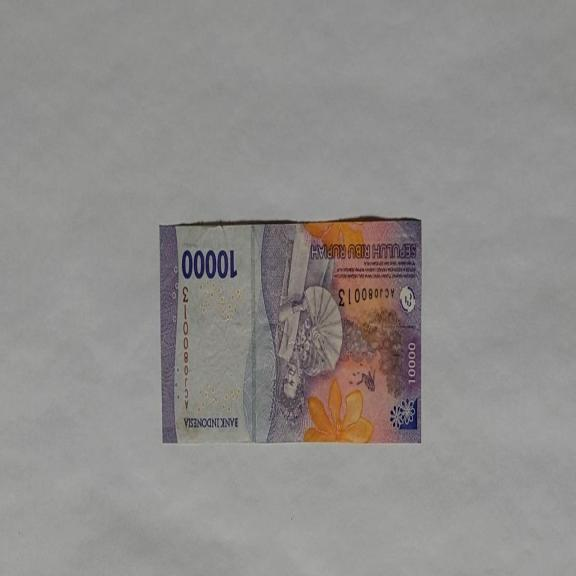Kertas: (159, 216, 423, 445), (180, 246, 238, 281)
